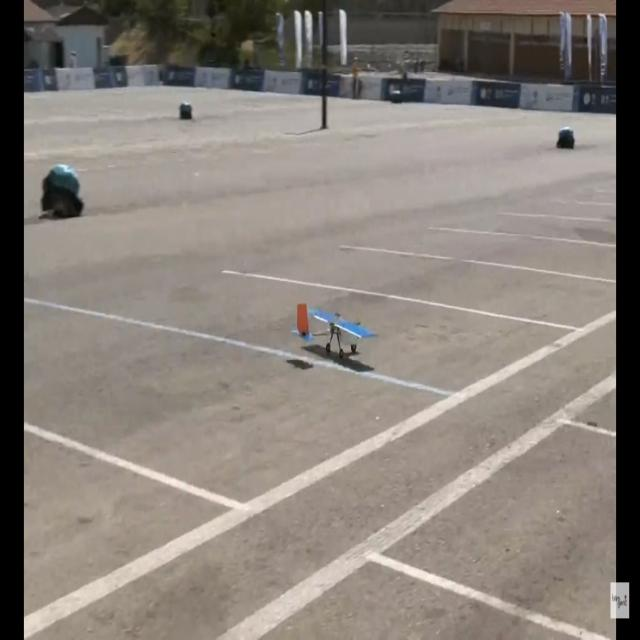iha: (322, 295, 348, 354)
